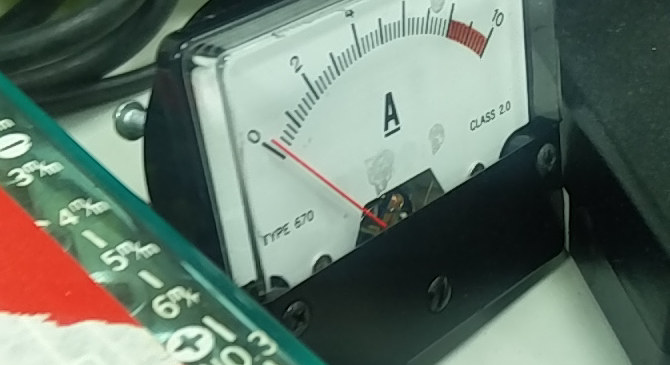Amp_Meter: (187, 1, 569, 306)
